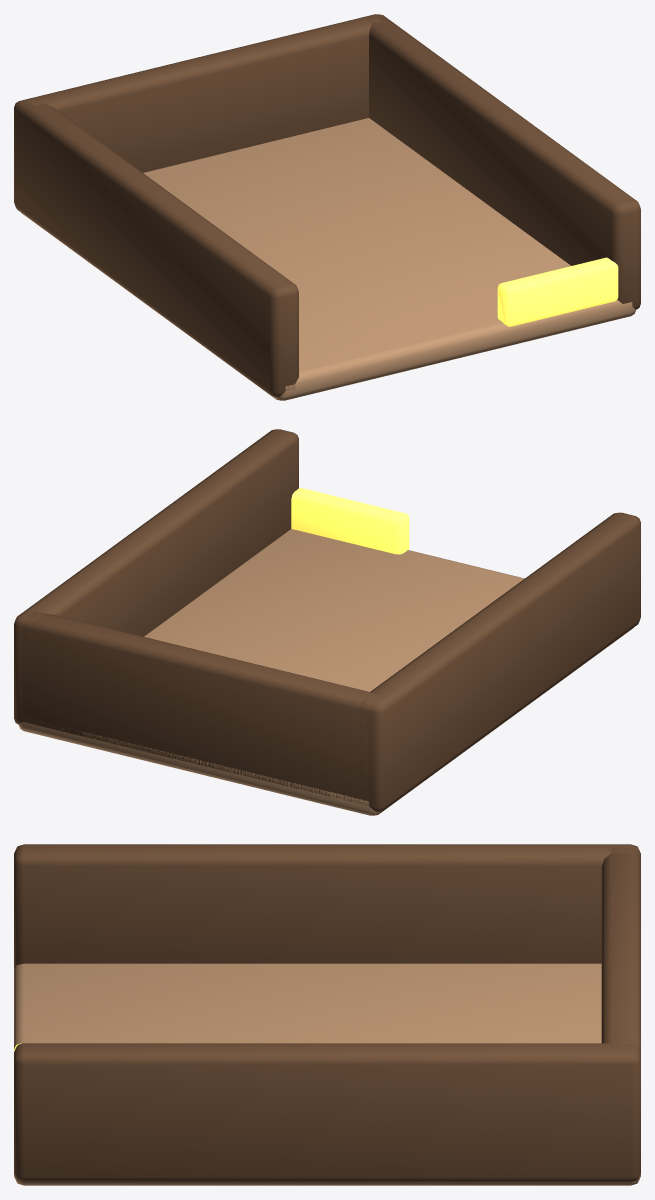
Rendered from Doc_InboxTray.fbx.
3 renders of one model, top to bottom at view 1: azimuth 30°, elevation 25°; view 2: azimuth 150°, elevation 25°; view 3: azimuth 270°, elevation 25°, orthographic. The views are drawn at different scales.
Visible parts, largest first — view 1: Inbox_Floor, Inbox_WallR, Inbox_WallL, Inbox_WallBack, Inbox_Badge; view 2: Inbox_WallBack, Inbox_Floor, Inbox_WallR, Inbox_WallL, Inbox_Badge; view 3: Inbox_WallL, Inbox_WallR, Inbox_Floor, Inbox_WallBack.
Part boxes in pixels (bbox=[...]): Inbox_Floor: bbox=[22, 118, 635, 400]; Inbox_WallR: bbox=[14, 97, 298, 396]; Inbox_WallL: bbox=[364, 14, 640, 309]; Inbox_WallBack: bbox=[24, 15, 380, 172]; Inbox_Badge: bbox=[497, 257, 618, 326]; Inbox_WallBack: bbox=[22, 611, 380, 805]; Inbox_Floor: bbox=[19, 529, 632, 815]; Inbox_WallR: bbox=[360, 512, 640, 811]; Inbox_WallL: bbox=[14, 429, 298, 724]; Inbox_Badge: bbox=[291, 488, 409, 554]; Inbox_WallL: bbox=[14, 1043, 640, 1182]; Inbox_WallR: bbox=[14, 844, 640, 967]; Inbox_Floor: bbox=[14, 963, 640, 1185]; Inbox_WallBack: bbox=[601, 847, 640, 1056].
Bounding box in the file's own units: 7.8 × 2.3 × 9.6.
